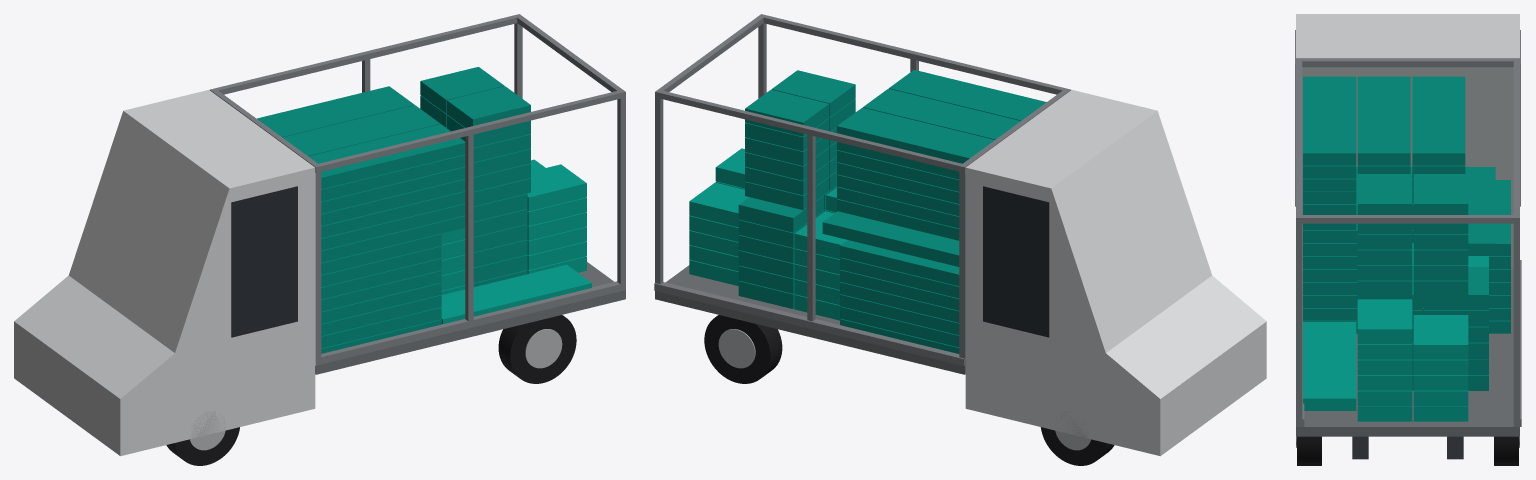
The model's file is van-SP12.glb.
3 views of the same model, side by side, from view 1: azimuth 30°, elevation 25°; view 2: azimuth 150°, elevation 25°; view 3: azimuth 270°, elevation 25° (orthographic). The views are drawn at different scales.
Parts seen in each view (by area): view 1: cabine, janela, part69, part72, piso, part70, part71, part11, part23, part10, part12, part106 (+39 smaller); view 2: cabine, janela, piso, part71, part50, part13, part70, part69, part25, part12, part10, part47 (+45 smaller); view 3: cabine, frente, piso, part69, part70, part71, part72, part118, part117, part106, part107, part50 (+58 smaller).
Part boxes in pixels (bbox=[...]): cabine: bbox=[14, 90, 315, 456]; janela: bbox=[231, 186, 297, 337]; part69: bbox=[308, 124, 465, 189]; part72: bbox=[441, 264, 591, 323]; piso: bbox=[315, 262, 625, 374]; part70: bbox=[282, 105, 440, 156]; part71: bbox=[257, 86, 414, 137]; part11: bbox=[316, 281, 625, 364]; part23: bbox=[498, 315, 576, 383]; part10: bbox=[313, 89, 625, 172]; part12: bbox=[210, 14, 522, 94]; part106: bbox=[447, 86, 530, 127]; cabine: bbox=[965, 90, 1266, 456]; janela: bbox=[983, 186, 1049, 337]; piso: bbox=[655, 265, 965, 374]; part71: bbox=[837, 107, 994, 163]; part50: bbox=[822, 211, 959, 266]; part13: bbox=[654, 282, 964, 366]; part70: bbox=[863, 88, 1020, 139]; part69: bbox=[889, 69, 1046, 120]; part25: bbox=[704, 315, 782, 383]; part12: bbox=[655, 89, 967, 172]; part10: bbox=[758, 14, 1070, 94]; part47: bbox=[840, 240, 959, 286]; cabine: bbox=[1296, 14, 1519, 58]; frente: bbox=[1302, 67, 1513, 267]; piso: bbox=[1296, 267, 1519, 436]; part69: bbox=[1303, 76, 1356, 165]; part70: bbox=[1357, 76, 1410, 165]; part71: bbox=[1412, 76, 1465, 165]; part72: bbox=[1303, 322, 1356, 410]; part118: bbox=[1357, 299, 1412, 344]; part117: bbox=[1413, 315, 1468, 359]; part106: bbox=[1357, 174, 1412, 214]; part107: bbox=[1413, 174, 1468, 214]; part50: bbox=[1465, 167, 1495, 255].
Size of the model in its own units: 5.19 by 2.66 by 1.91.
